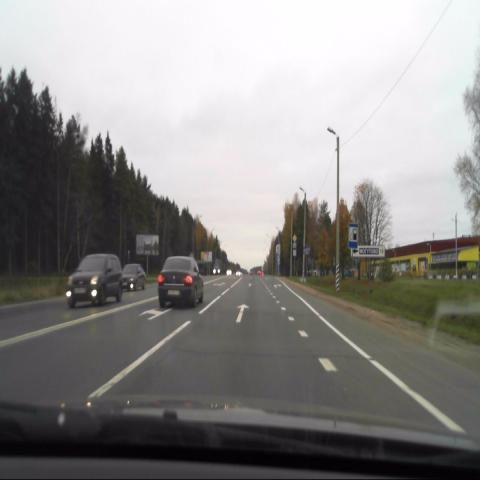7_3: (348, 223, 358, 247)
